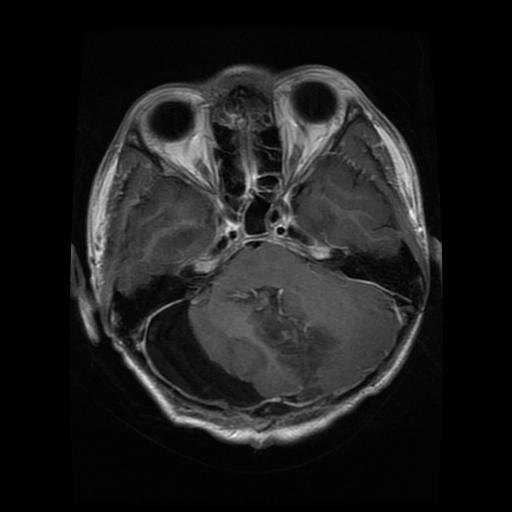Gliomia_tumour: (225, 283, 340, 385)
